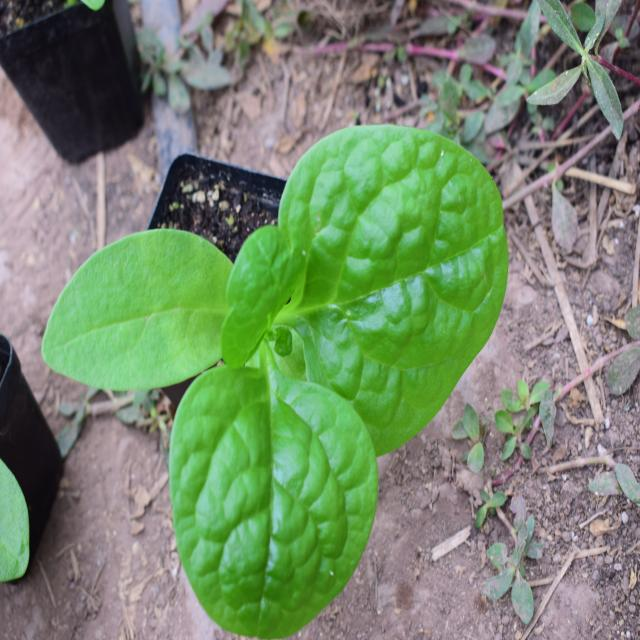Ceylon spinach: (79, 183, 498, 582)
